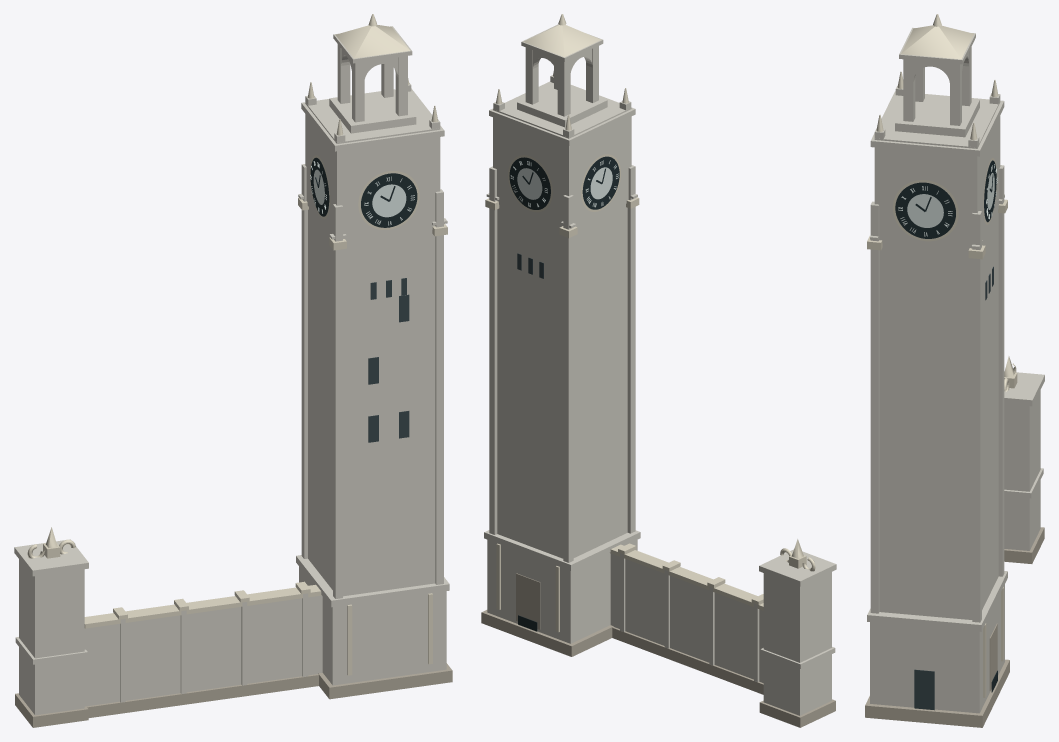
The model's file is tour-de-l-horloge-near.glb.
3 renders of one model, left to right at view 1: azimuth 30°, elevation 25°; view 2: azimuth 150°, elevation 25°; view 3: azimuth 270°, elevation 25°, orthographic. The views are drawn at different scales.
Visible parts, largest first — view 1: tour-de-l-horloge-0-concrete, tour-de-l-horloge-0-roof, tour-de-l-horloge-0-stone, tour-de-l-horloge-0-iron, tour-de-l-horloge-0-glass, tour-de-l-horloge-0-paint; view 2: tour-de-l-horloge-0-concrete, tour-de-l-horloge-0-roof, tour-de-l-horloge-0-stone, tour-de-l-horloge-0-iron, tour-de-l-horloge-0-paint; view 3: tour-de-l-horloge-0-concrete, tour-de-l-horloge-0-roof, tour-de-l-horloge-0-stone, tour-de-l-horloge-0-iron, tour-de-l-horloge-0-paint, tour-de-l-horloge-0-glass.
Boxes of the visible parts, x1,y1,x2,y2 form: tour-de-l-horloge-0-concrete: [14, 26, 449, 715]; tour-de-l-horloge-0-roof: [27, 14, 447, 675]; tour-de-l-horloge-0-stone: [15, 663, 452, 727]; tour-de-l-horloge-0-iron: [310, 157, 417, 227]; tour-de-l-horloge-0-glass: [368, 278, 409, 442]; tour-de-l-horloge-0-paint: [310, 161, 414, 225]; tour-de-l-horloge-0-concrete: [484, 24, 836, 715]; tour-de-l-horloge-0-roof: [485, 14, 815, 632]; tour-de-l-horloge-0-stone: [481, 573, 835, 727]; tour-de-l-horloge-0-iron: [509, 156, 619, 631]; tour-de-l-horloge-0-paint: [510, 160, 618, 207]; tour-de-l-horloge-0-concrete: [867, 27, 1044, 713]; tour-de-l-horloge-0-roof: [867, 14, 1017, 697]; tour-de-l-horloge-0-stone: [865, 527, 1044, 727]; tour-de-l-horloge-0-iron: [895, 160, 997, 692]; tour-de-l-horloge-0-paint: [898, 164, 997, 236]; tour-de-l-horloge-0-glass: [914, 266, 993, 710].
Bounding box in the file's own units: 27.56 × 45 × 10.79.
